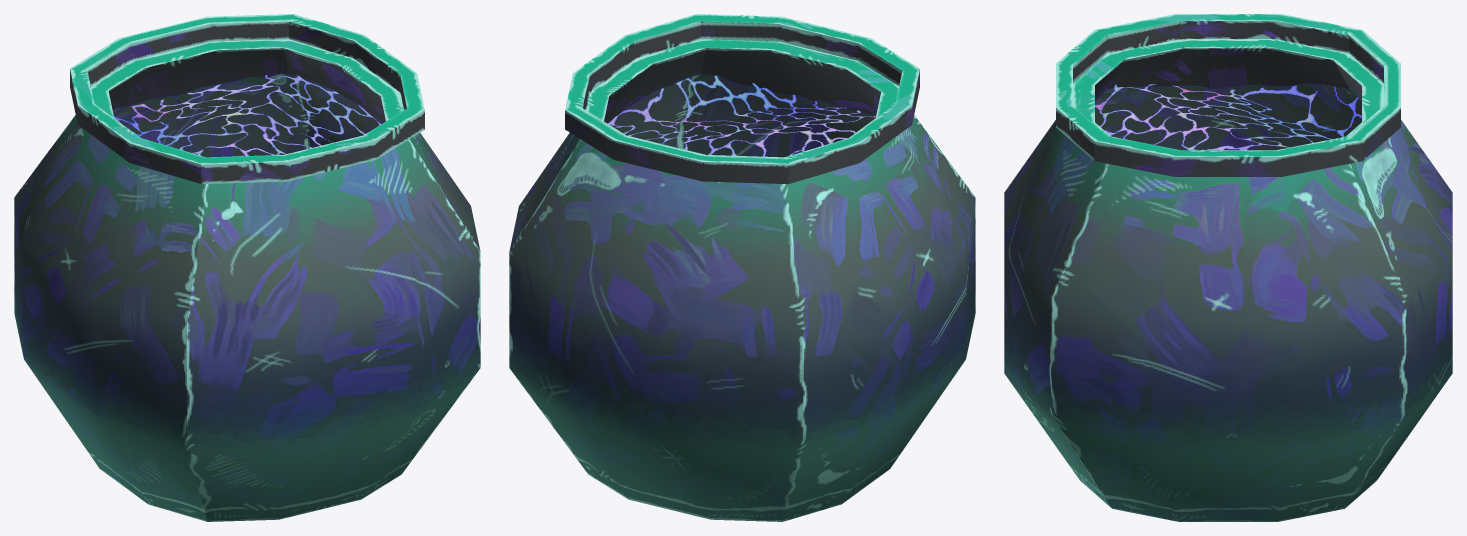
File: Fish_Bowl.fbx
3 views of the same model, side by side, from view 1: azimuth 30°, elevation 25°; view 2: azimuth 150°, elevation 25°; view 3: azimuth 270°, elevation 25° (orthographic). The views are drawn at different scales.
Parts seen in each view (by area): view 1: Fish_Bowl; view 2: Fish_Bowl; view 3: Fish_Bowl.
Part boxes in pixels (left/top/right/bottom): Fish_Bowl: left=14, top=14, right=480, bottom=521; Fish_Bowl: left=509, top=14, right=975, bottom=521; Fish_Bowl: left=1004, top=14, right=1452, bottom=521.
Bounding box in the file's own units: 0.9821 × 0.9222 × 1.
Materials: 1 (1 with a texture image).
